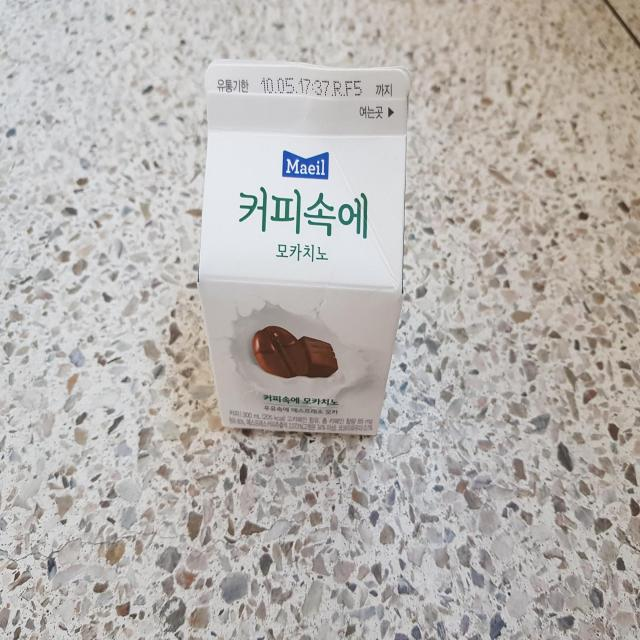paperpack: (198, 60, 410, 434)
